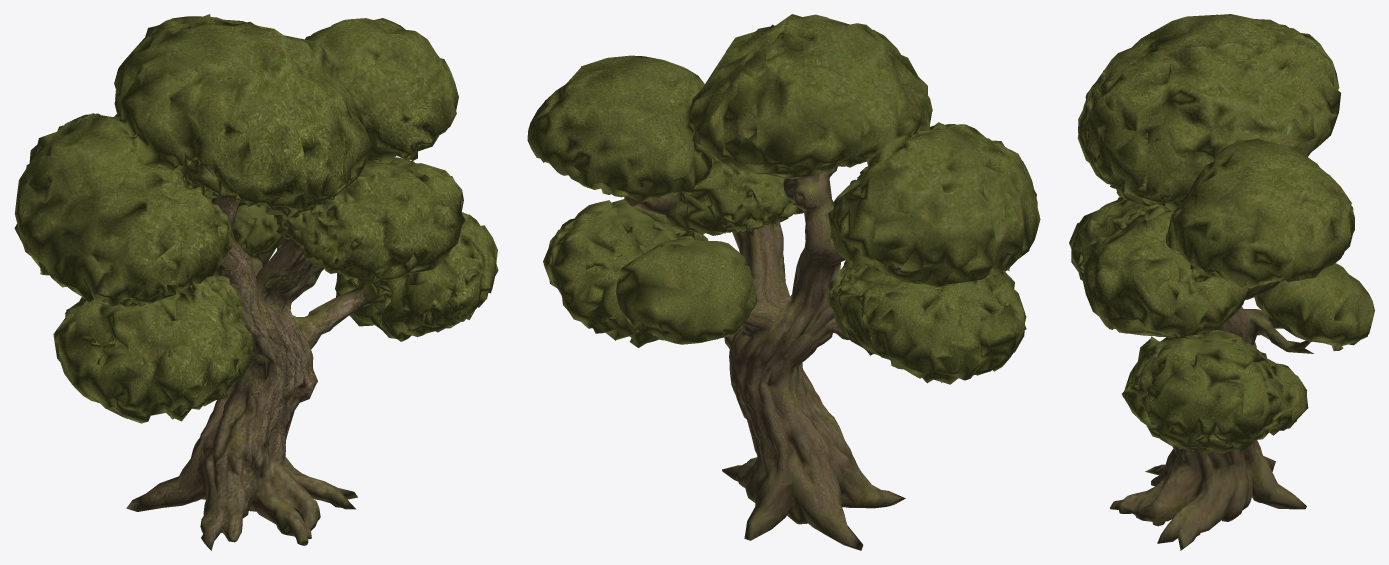
File: roble_alto.glb
3 renders of one model, left to right at view 1: azimuth 30°, elevation 25°; view 2: azimuth 150°, elevation 25°; view 3: azimuth 270°, elevation 25°, orthographic.
Parts seen in each view (by area): view 1: alto; view 2: alto; view 3: alto.
Boxes of the visible parts, box(x1,y1,x2,y2) form: alto: box(14, 14, 498, 550); alto: box(527, 14, 1040, 550); alto: box(1069, 14, 1374, 550).
Bounding box in the file's own units: 7.48 × 7.49 × 4.39.
1 material, 1 textured.
